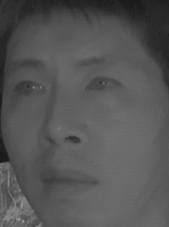eye: (85, 72, 123, 99), (12, 76, 46, 101)
mouth: (33, 161, 103, 201)
